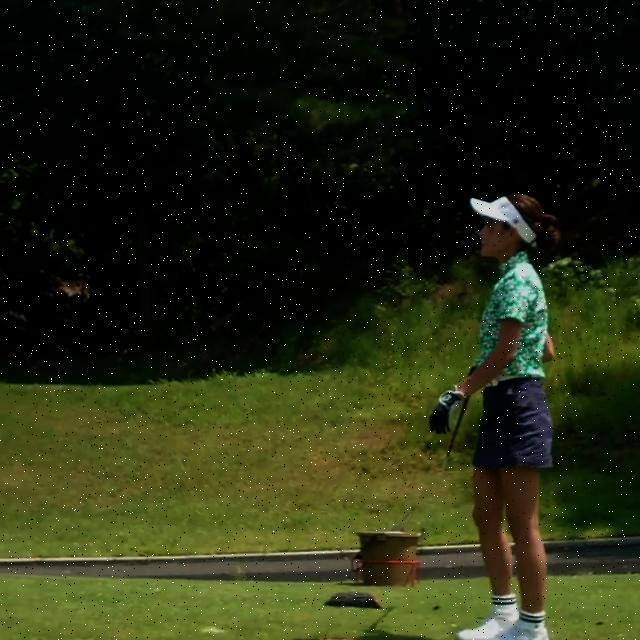ClubHandle: (441, 366, 475, 472)
